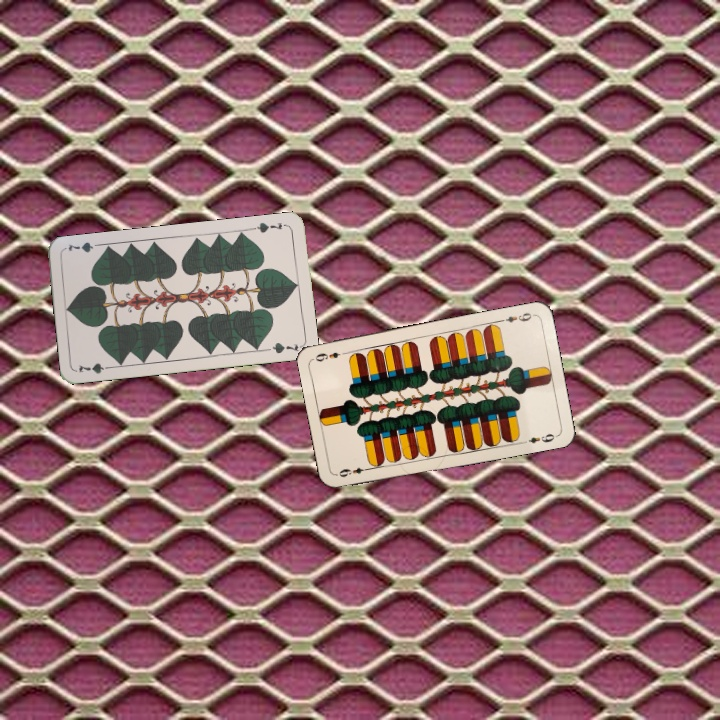E9: (335, 463, 374, 480), (496, 309, 537, 325)
G7: (74, 359, 115, 376), (249, 218, 290, 235)
